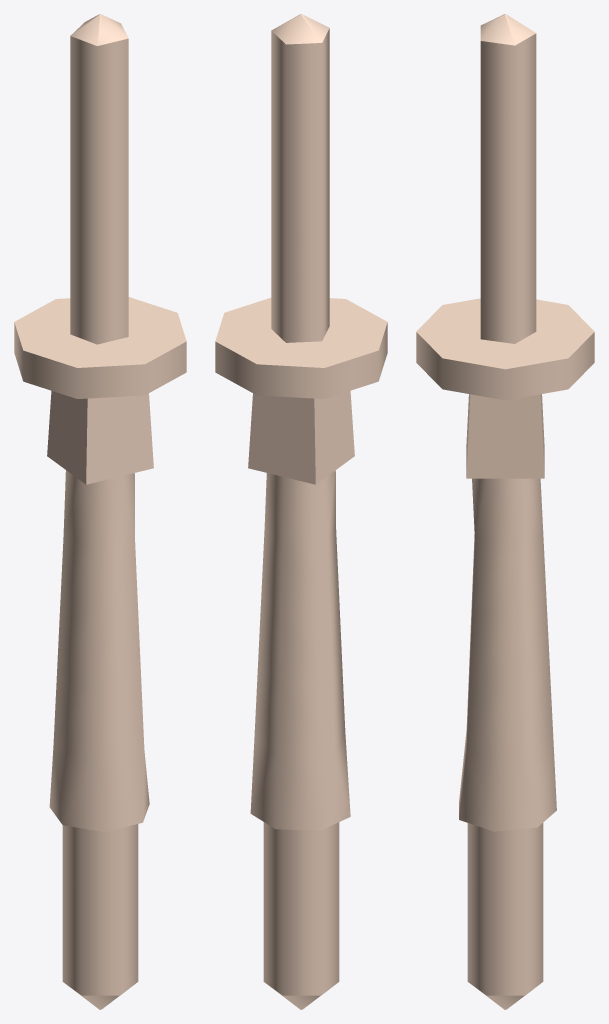
Rendered from Pied Timbre_Quarts 2T.obj.
3 renders of one model, left to right at view 1: azimuth 30°, elevation 25°; view 2: azimuth 150°, elevation 25°; view 3: azimuth 270°, elevation 25°, orthographic.
Parts seen in each view (by area): view 1: Face_16, Face_4, Face_14, Face_5, Face_6, Face_9, Face_10, Face_3; view 2: Face_16, Face_4, Face_14, Face_5, Face_6, Face_11, Face_10, Face_3; view 3: Face_16, Face_4, Face_14, Face_5, Face_8, Face_6, Face_3.
Part boxes in pixels (bbox=[...]): Face_16: bbox=[49, 470, 149, 831]; Face_4: bbox=[70, 36, 128, 344]; Face_14: bbox=[62, 824, 138, 995]; Face_5: bbox=[14, 297, 186, 367]; Face_6: bbox=[14, 322, 186, 398]; Face_9: bbox=[86, 393, 153, 484]; Face_10: bbox=[47, 391, 87, 484]; Face_3: bbox=[70, 14, 128, 45]; Face_16: bbox=[250, 470, 350, 830]; Face_4: bbox=[271, 28, 329, 342]; Face_14: bbox=[263, 822, 339, 995]; Face_5: bbox=[215, 297, 387, 367]; Face_6: bbox=[215, 322, 387, 398]; Face_11: bbox=[248, 393, 315, 484]; Face_10: bbox=[314, 391, 354, 484]; Face_3: bbox=[271, 14, 329, 44]; Face_16: bbox=[459, 478, 556, 831]; Face_4: bbox=[480, 33, 536, 343]; Face_14: bbox=[467, 823, 543, 995]; Face_5: bbox=[416, 298, 594, 369]; Face_8: bbox=[466, 394, 544, 478]; Face_6: bbox=[416, 332, 594, 400]; Face_3: bbox=[480, 14, 535, 45].
Bounding box in the file's own units: 0.013 × 0.08 × 0.013.
